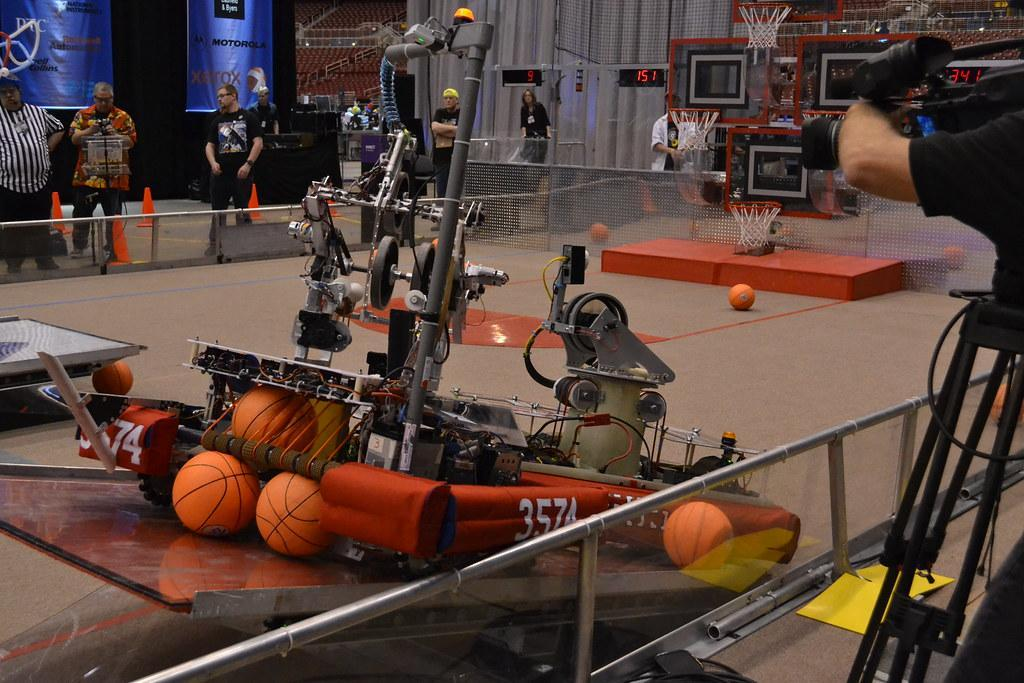robot: (67, 6, 604, 563), (504, 243, 799, 569)
